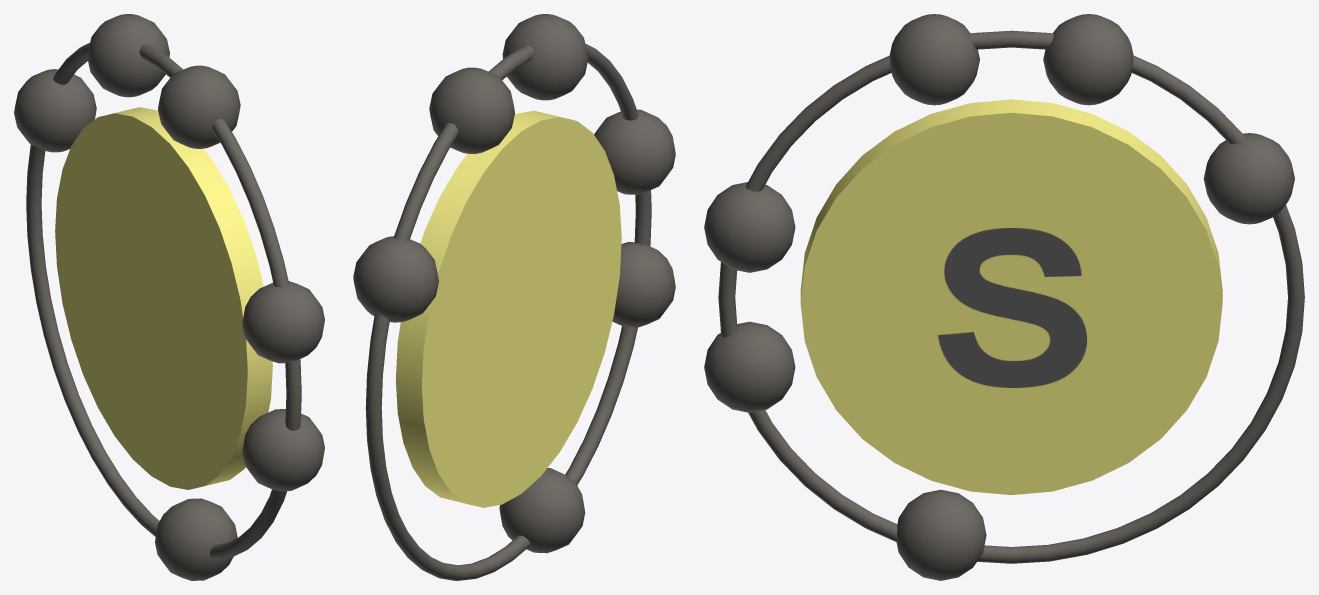
3 renders of one model, left to right at view 1: azimuth 30°, elevation 25°; view 2: azimuth 150°, elevation 25°; view 3: azimuth 270°, elevation 25°, orthographic. The views are drawn at different scales.
Visible parts, largest first — view 1: m_s.001, m_aro.001, m_ele.004, m_ele.001, m_ele.003, m_ele.006, m_ele.005, m_ele.002; view 2: m_s.001, m_aro.001, m_ele.005, m_ele.002, m_ele.001, m_ele.006, m_ele.004, m_ele.003; view 3: m_s.001, m_aro.001, m_ele.006, m_ele.002, m_ele.001, m_ele.003, m_ele.005, m_ele.004.
Boxes of the visible parts, x1,y1,x2,y2 form: m_s.001: (55, 107, 272, 489); m_aro.001: (26, 43, 301, 560); m_ele.004: (242, 281, 324, 363); m_ele.001: (158, 65, 240, 148); m_ele.003: (242, 409, 324, 491); m_ele.006: (155, 498, 237, 580); m_ele.005: (14, 69, 96, 152); m_ele.002: (87, 14, 169, 97); m_s.001: (395, 110, 621, 507); m_aro.001: (365, 43, 651, 580); m_ele.005: (353, 236, 438, 322); m_ele.002: (429, 67, 514, 153); m_ele.001: (502, 14, 588, 100); m_ele.006: (499, 468, 585, 553); m_ele.004: (594, 109, 675, 194); m_ele.003: (612, 242, 675, 327); m_s.001: (800, 99, 1222, 495); m_aro.001: (718, 30, 1304, 563); m_ele.006: (896, 489, 986, 580); m_ele.002: (1043, 14, 1133, 105); m_ele.001: (889, 14, 979, 105); m_ele.003: (704, 321, 795, 412); m_ele.005: (1203, 133, 1294, 224); m_ele.004: (704, 182, 795, 272).
Bounding box in the file's own units: 43.32 × 292 × 285.
